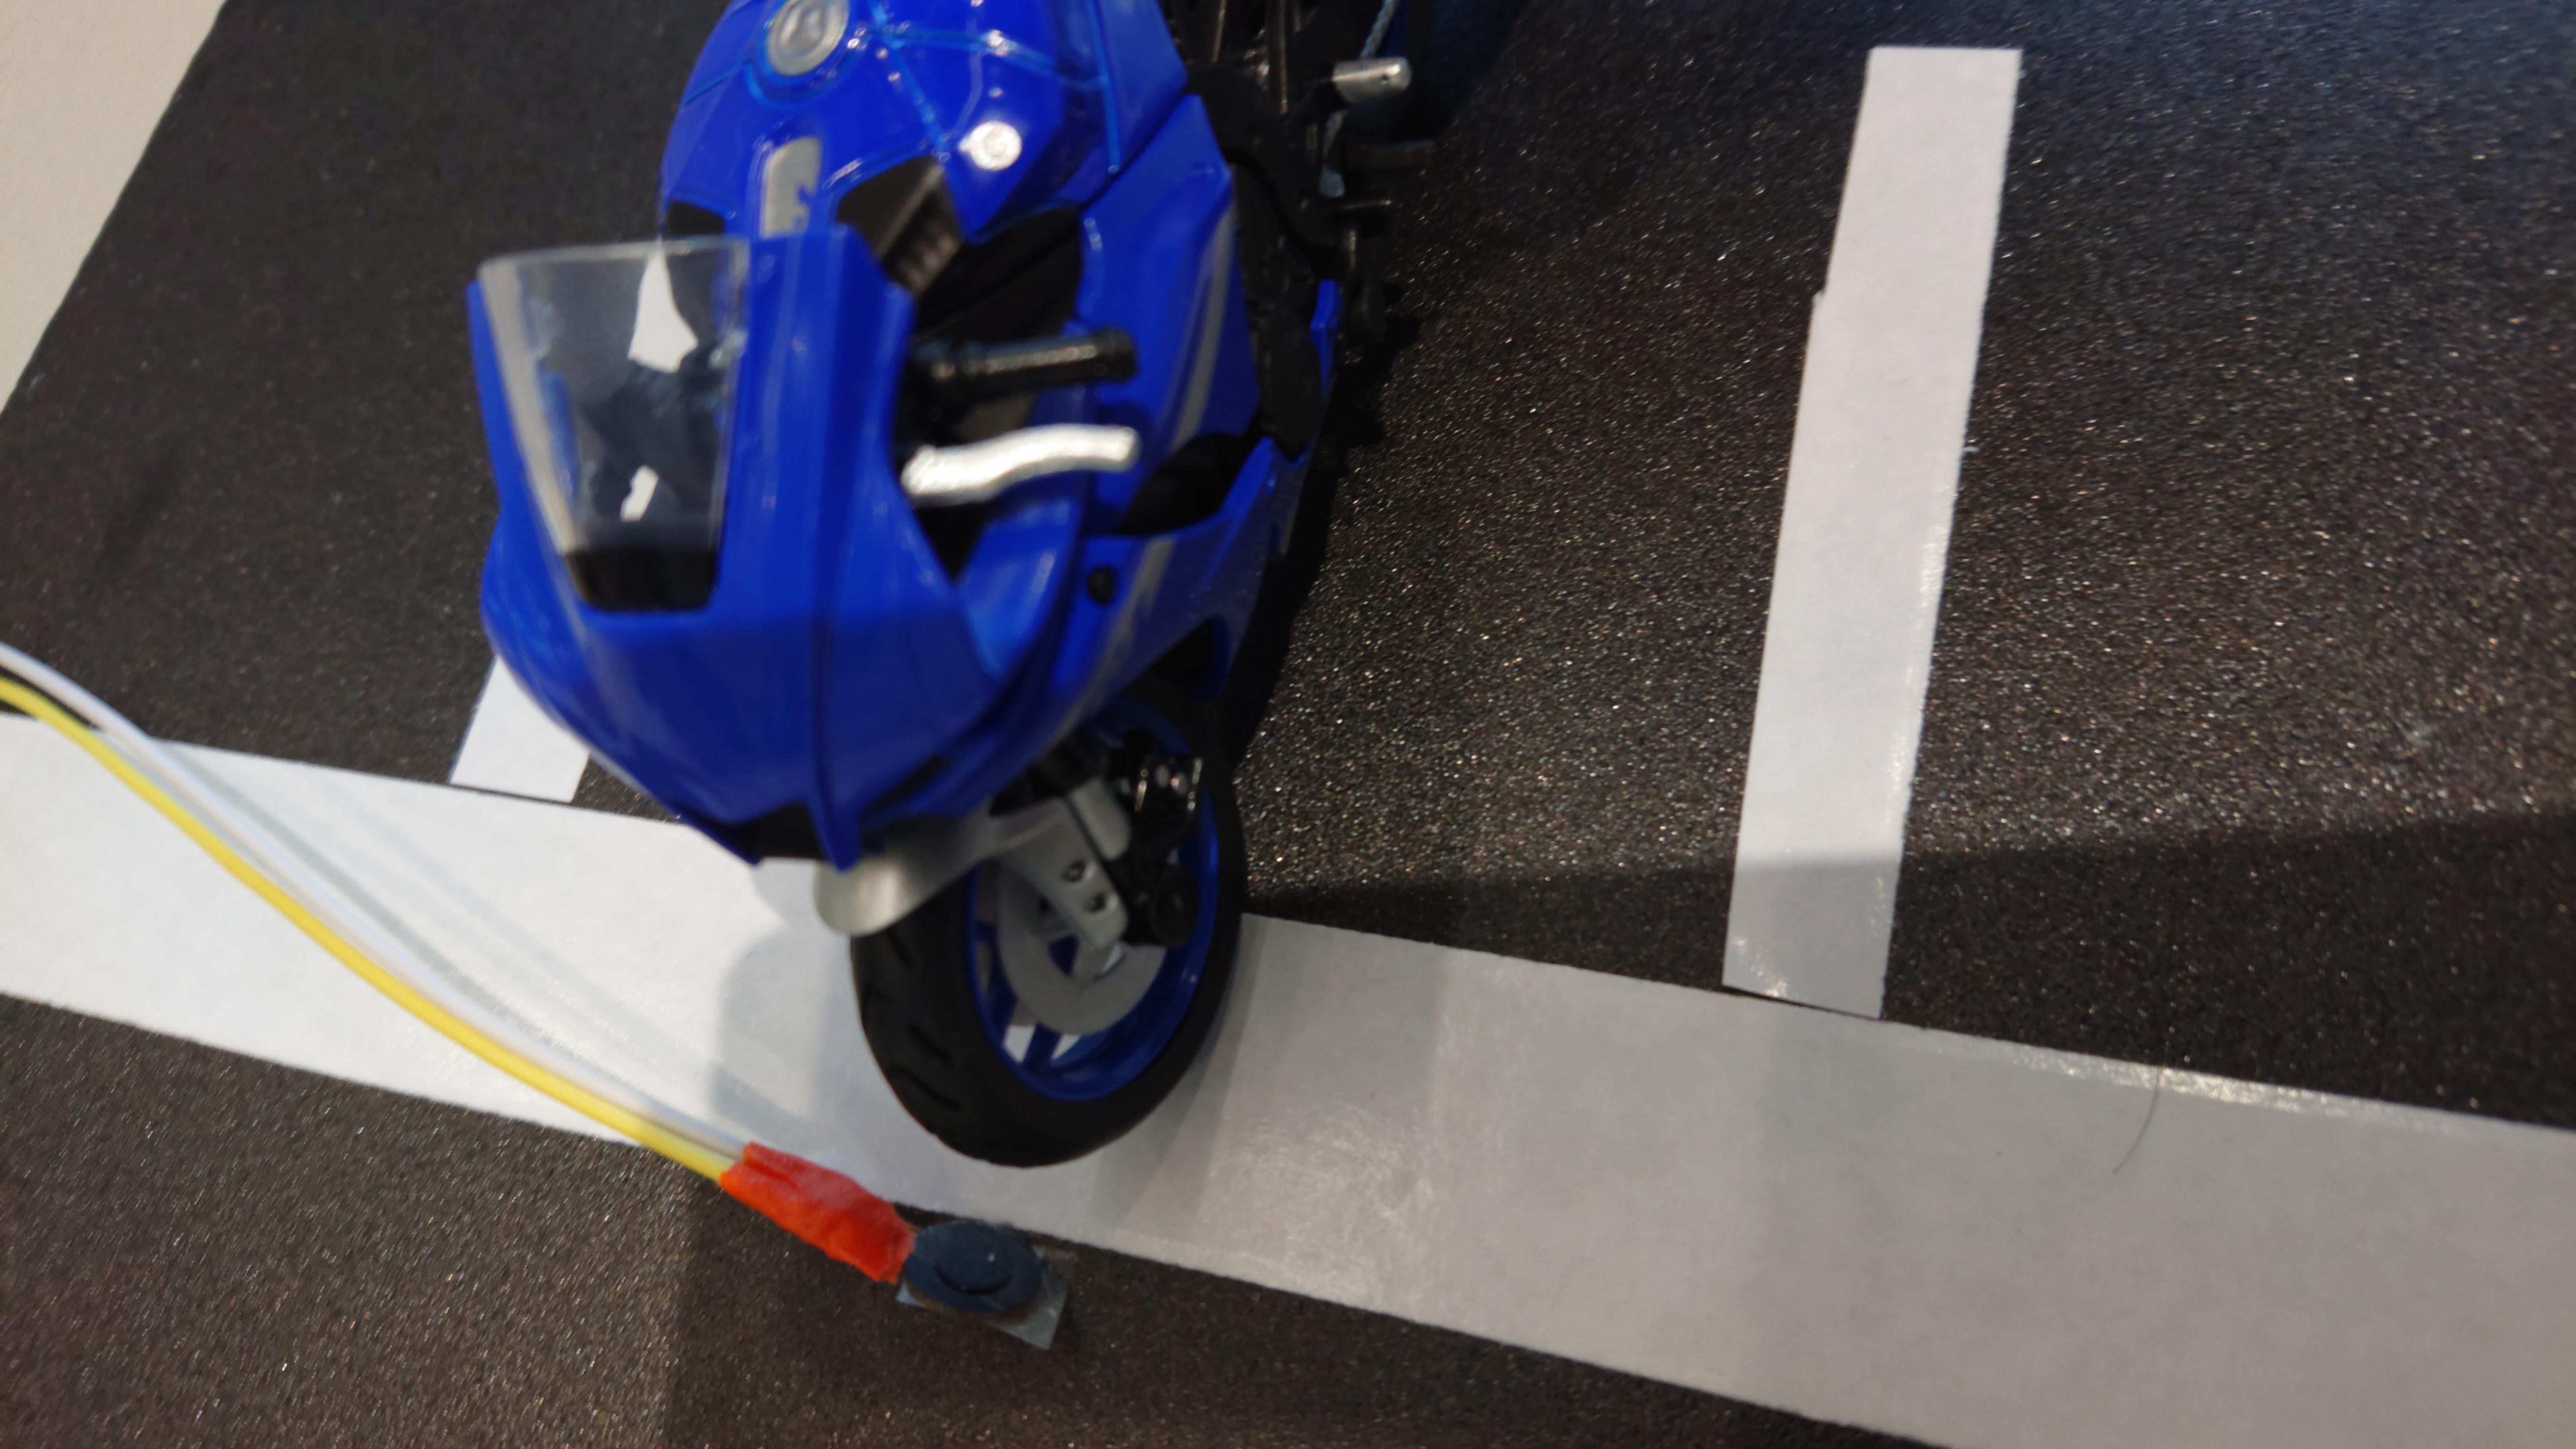Motorcycle: (448, 0, 1495, 1217)
